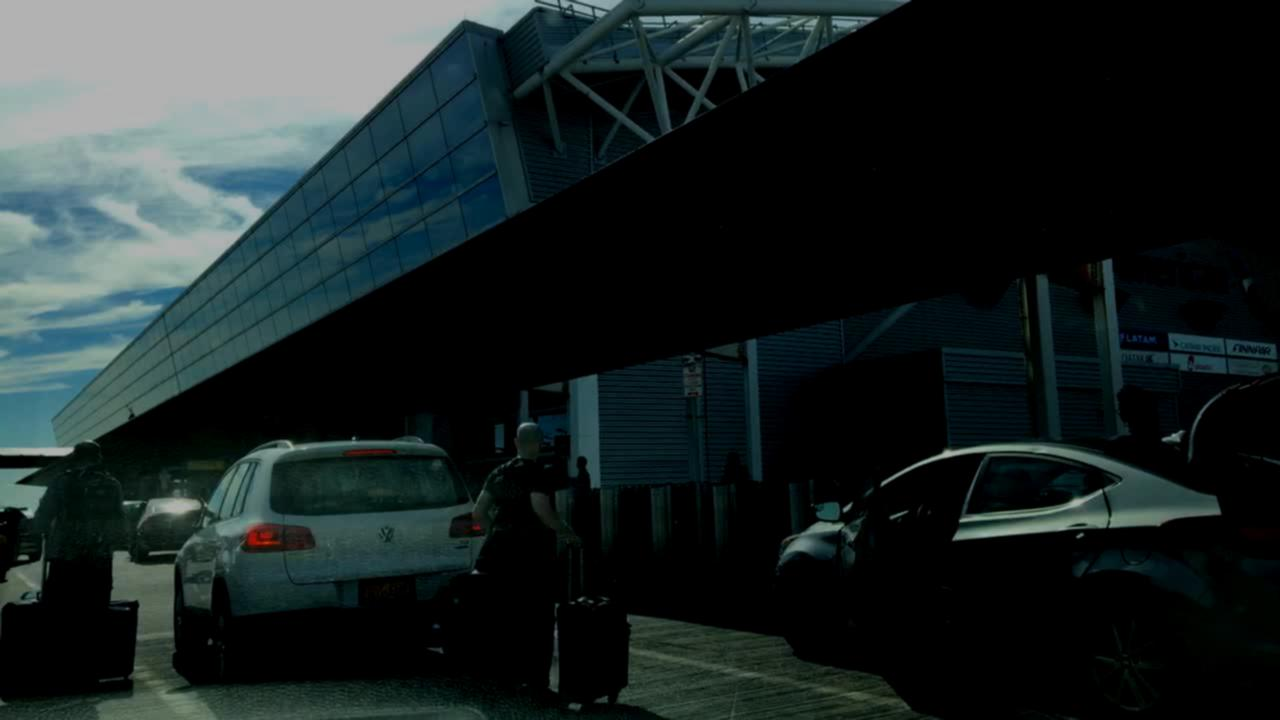Volkswagen: (370, 518, 402, 551)
